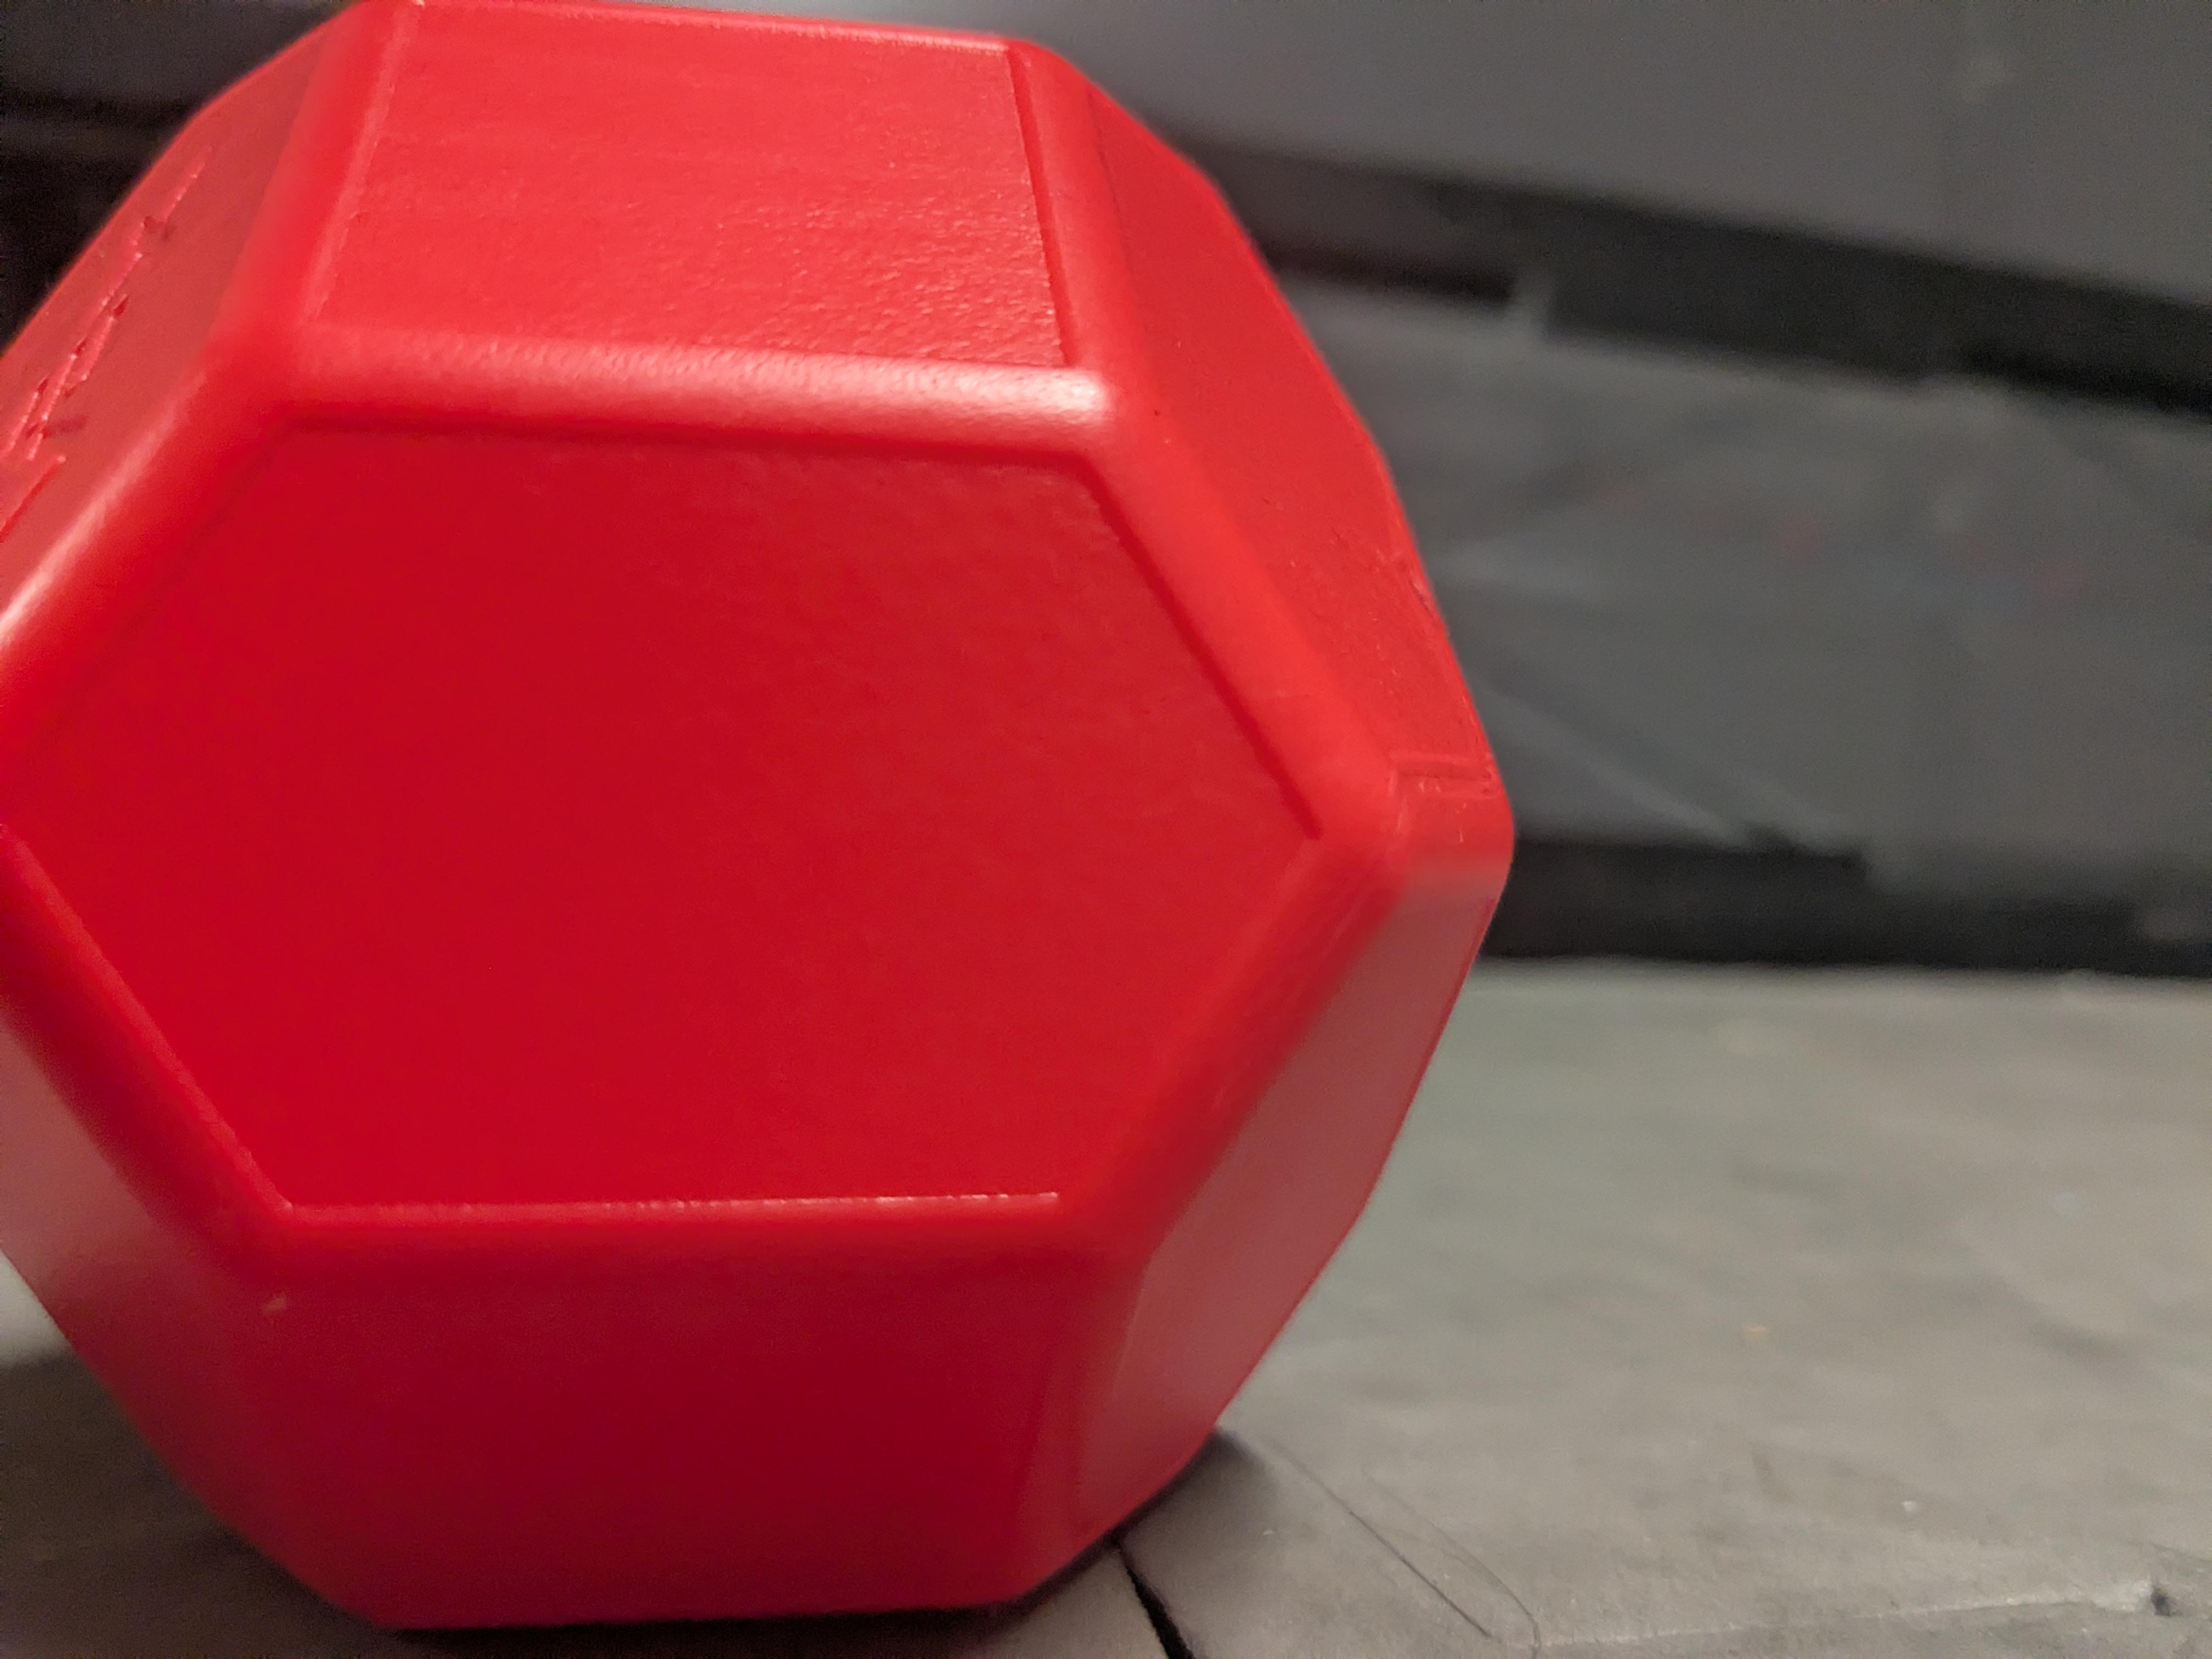Vex-Pieces-RED: (0, 5, 1510, 1626)
